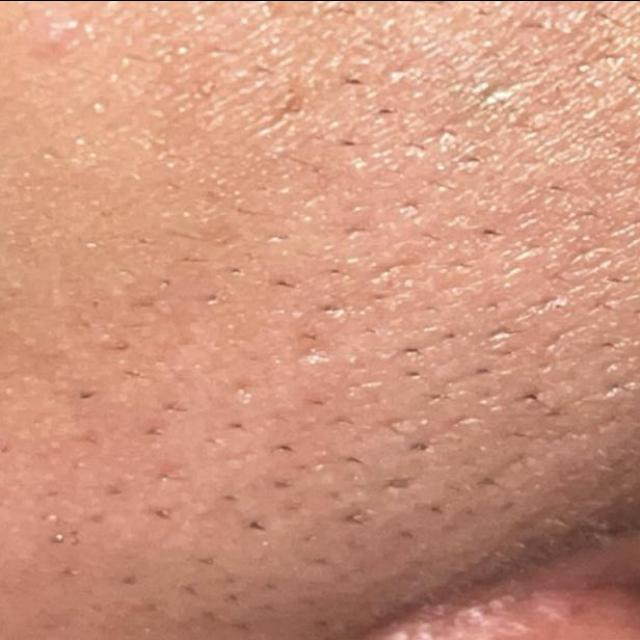blackhead: (57, 61, 635, 639)
